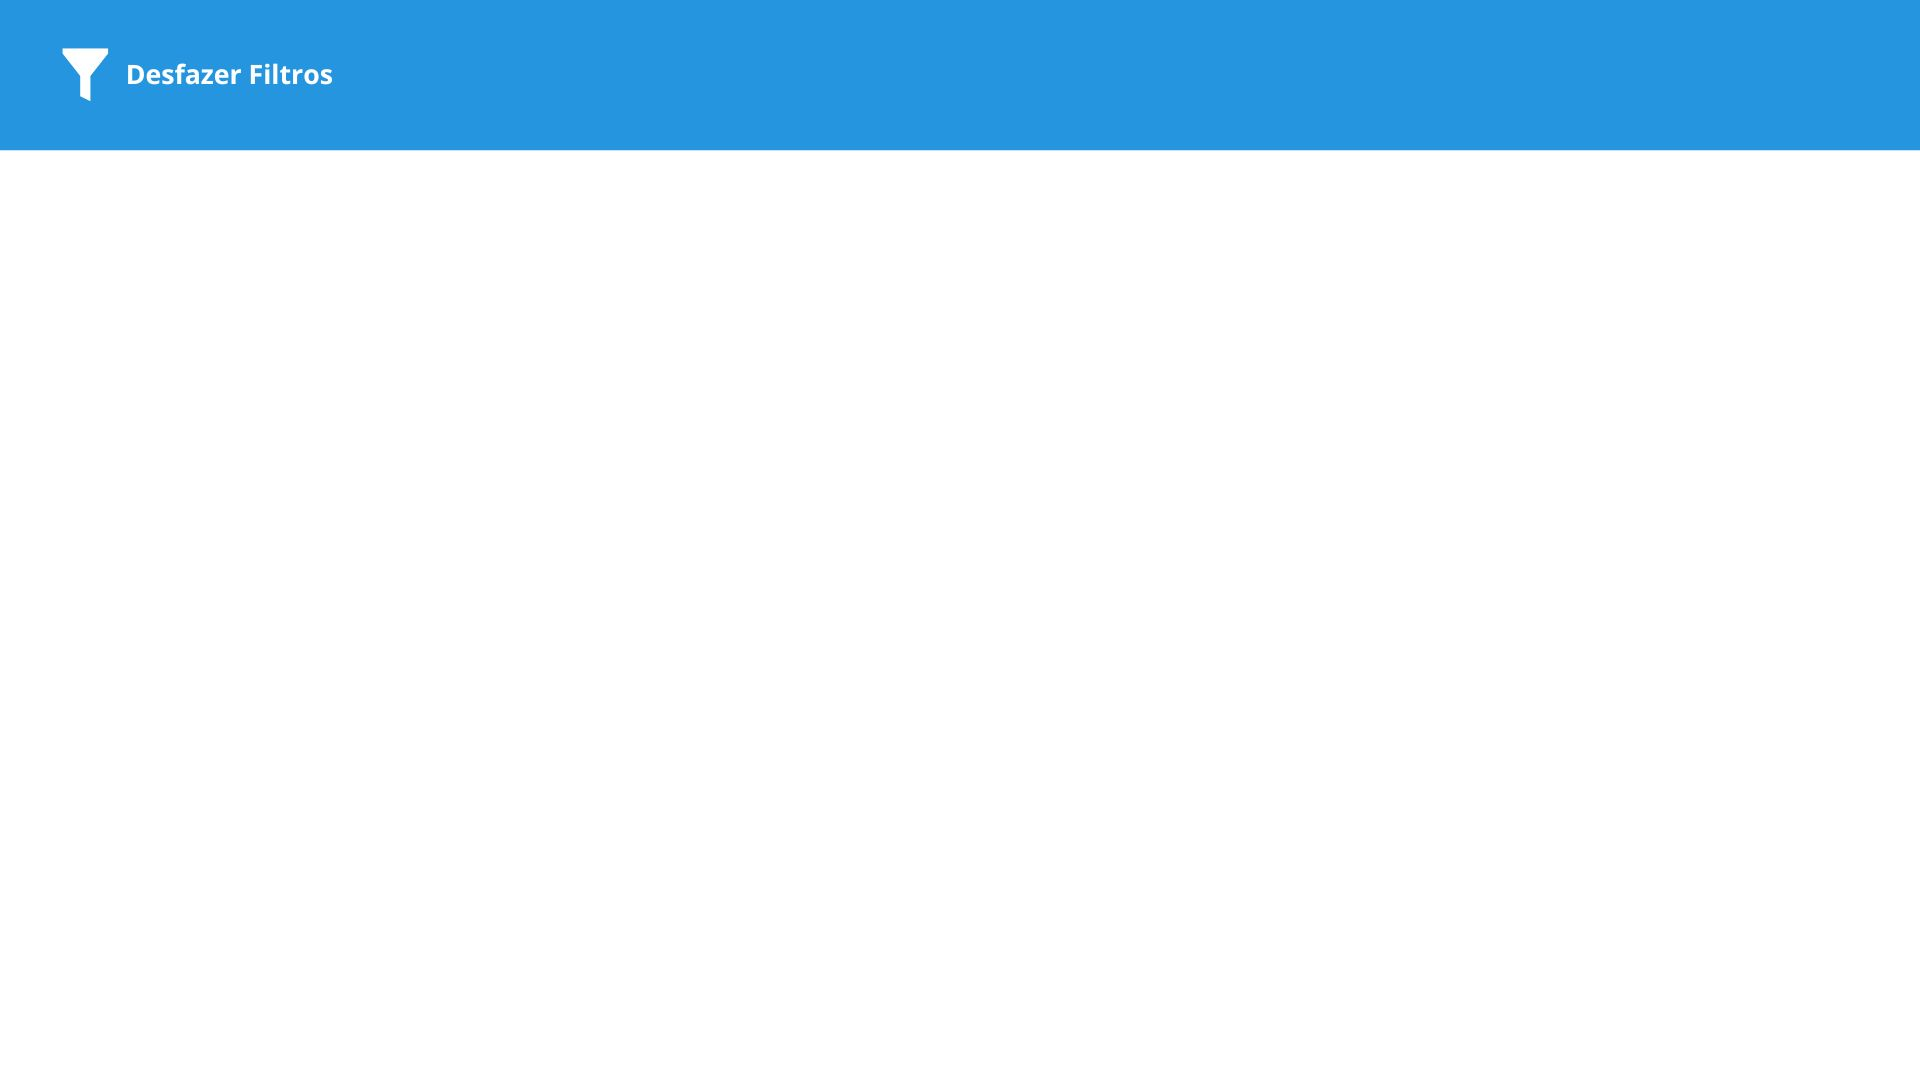

What the dashboard file says about the page in this screenshot:
{"tool":"powerbi","page":{"name":"Página inicial","canvas":[1280,720],"ordinal":0},"visuals":[{"type":"shape","box":[1106.7,531.7,135,80],"z":0}]}

Visuals, with their boxes in screenshot pixels (x1, y1, x2, y2), scaled from the page's 1280x720 canvas onto the 1920x1080 screenshot:
shape: region(1660, 798, 1863, 918)
